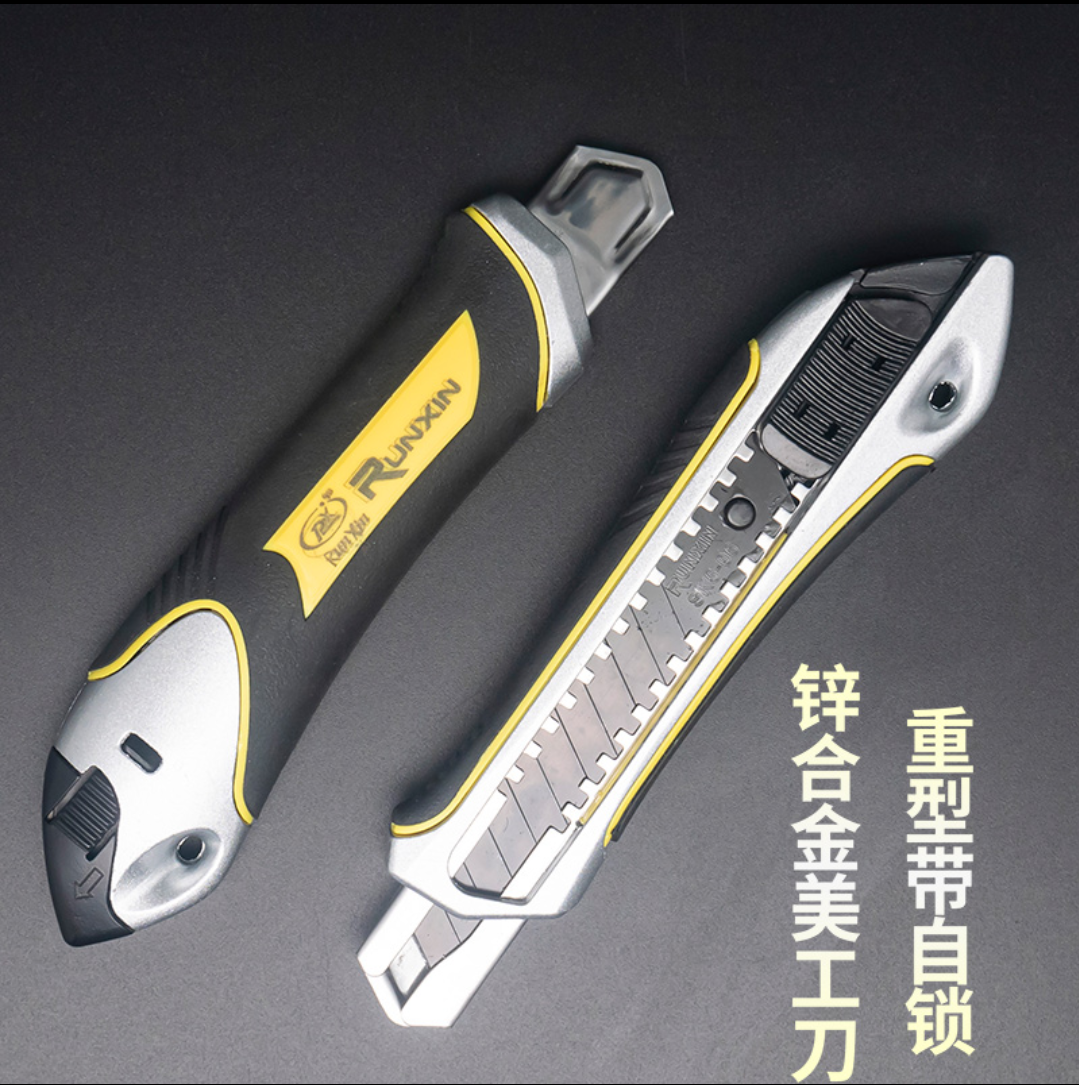cutter: (354, 249, 1019, 1033), (41, 142, 677, 950)
